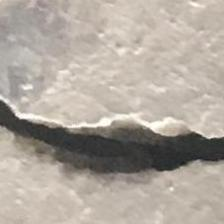Crack: (0, 83, 224, 195)
